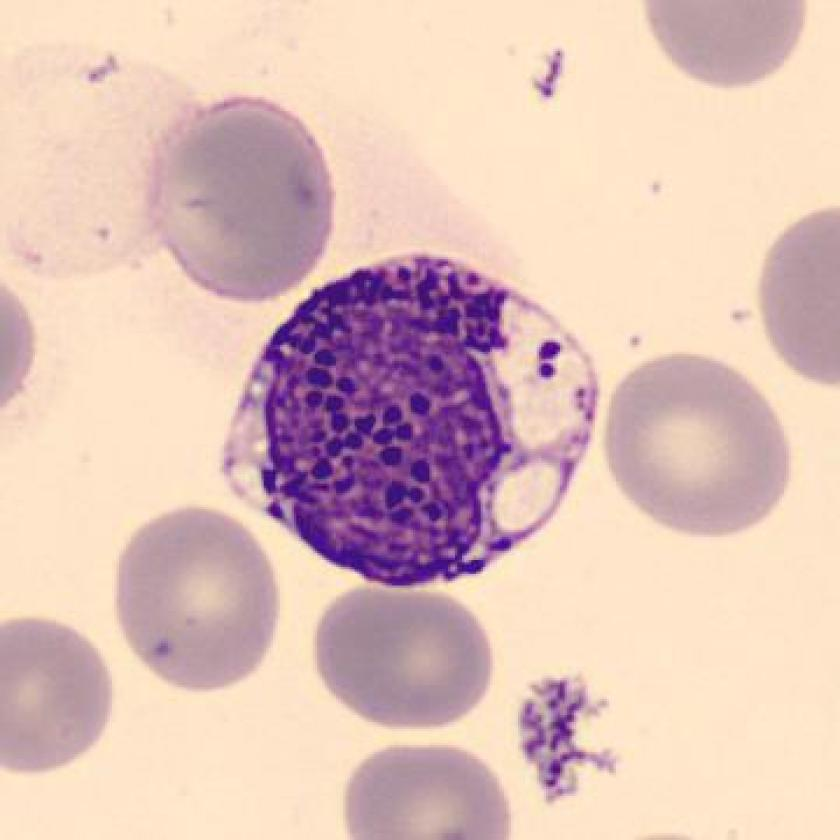basophil: (228, 253, 606, 584)
